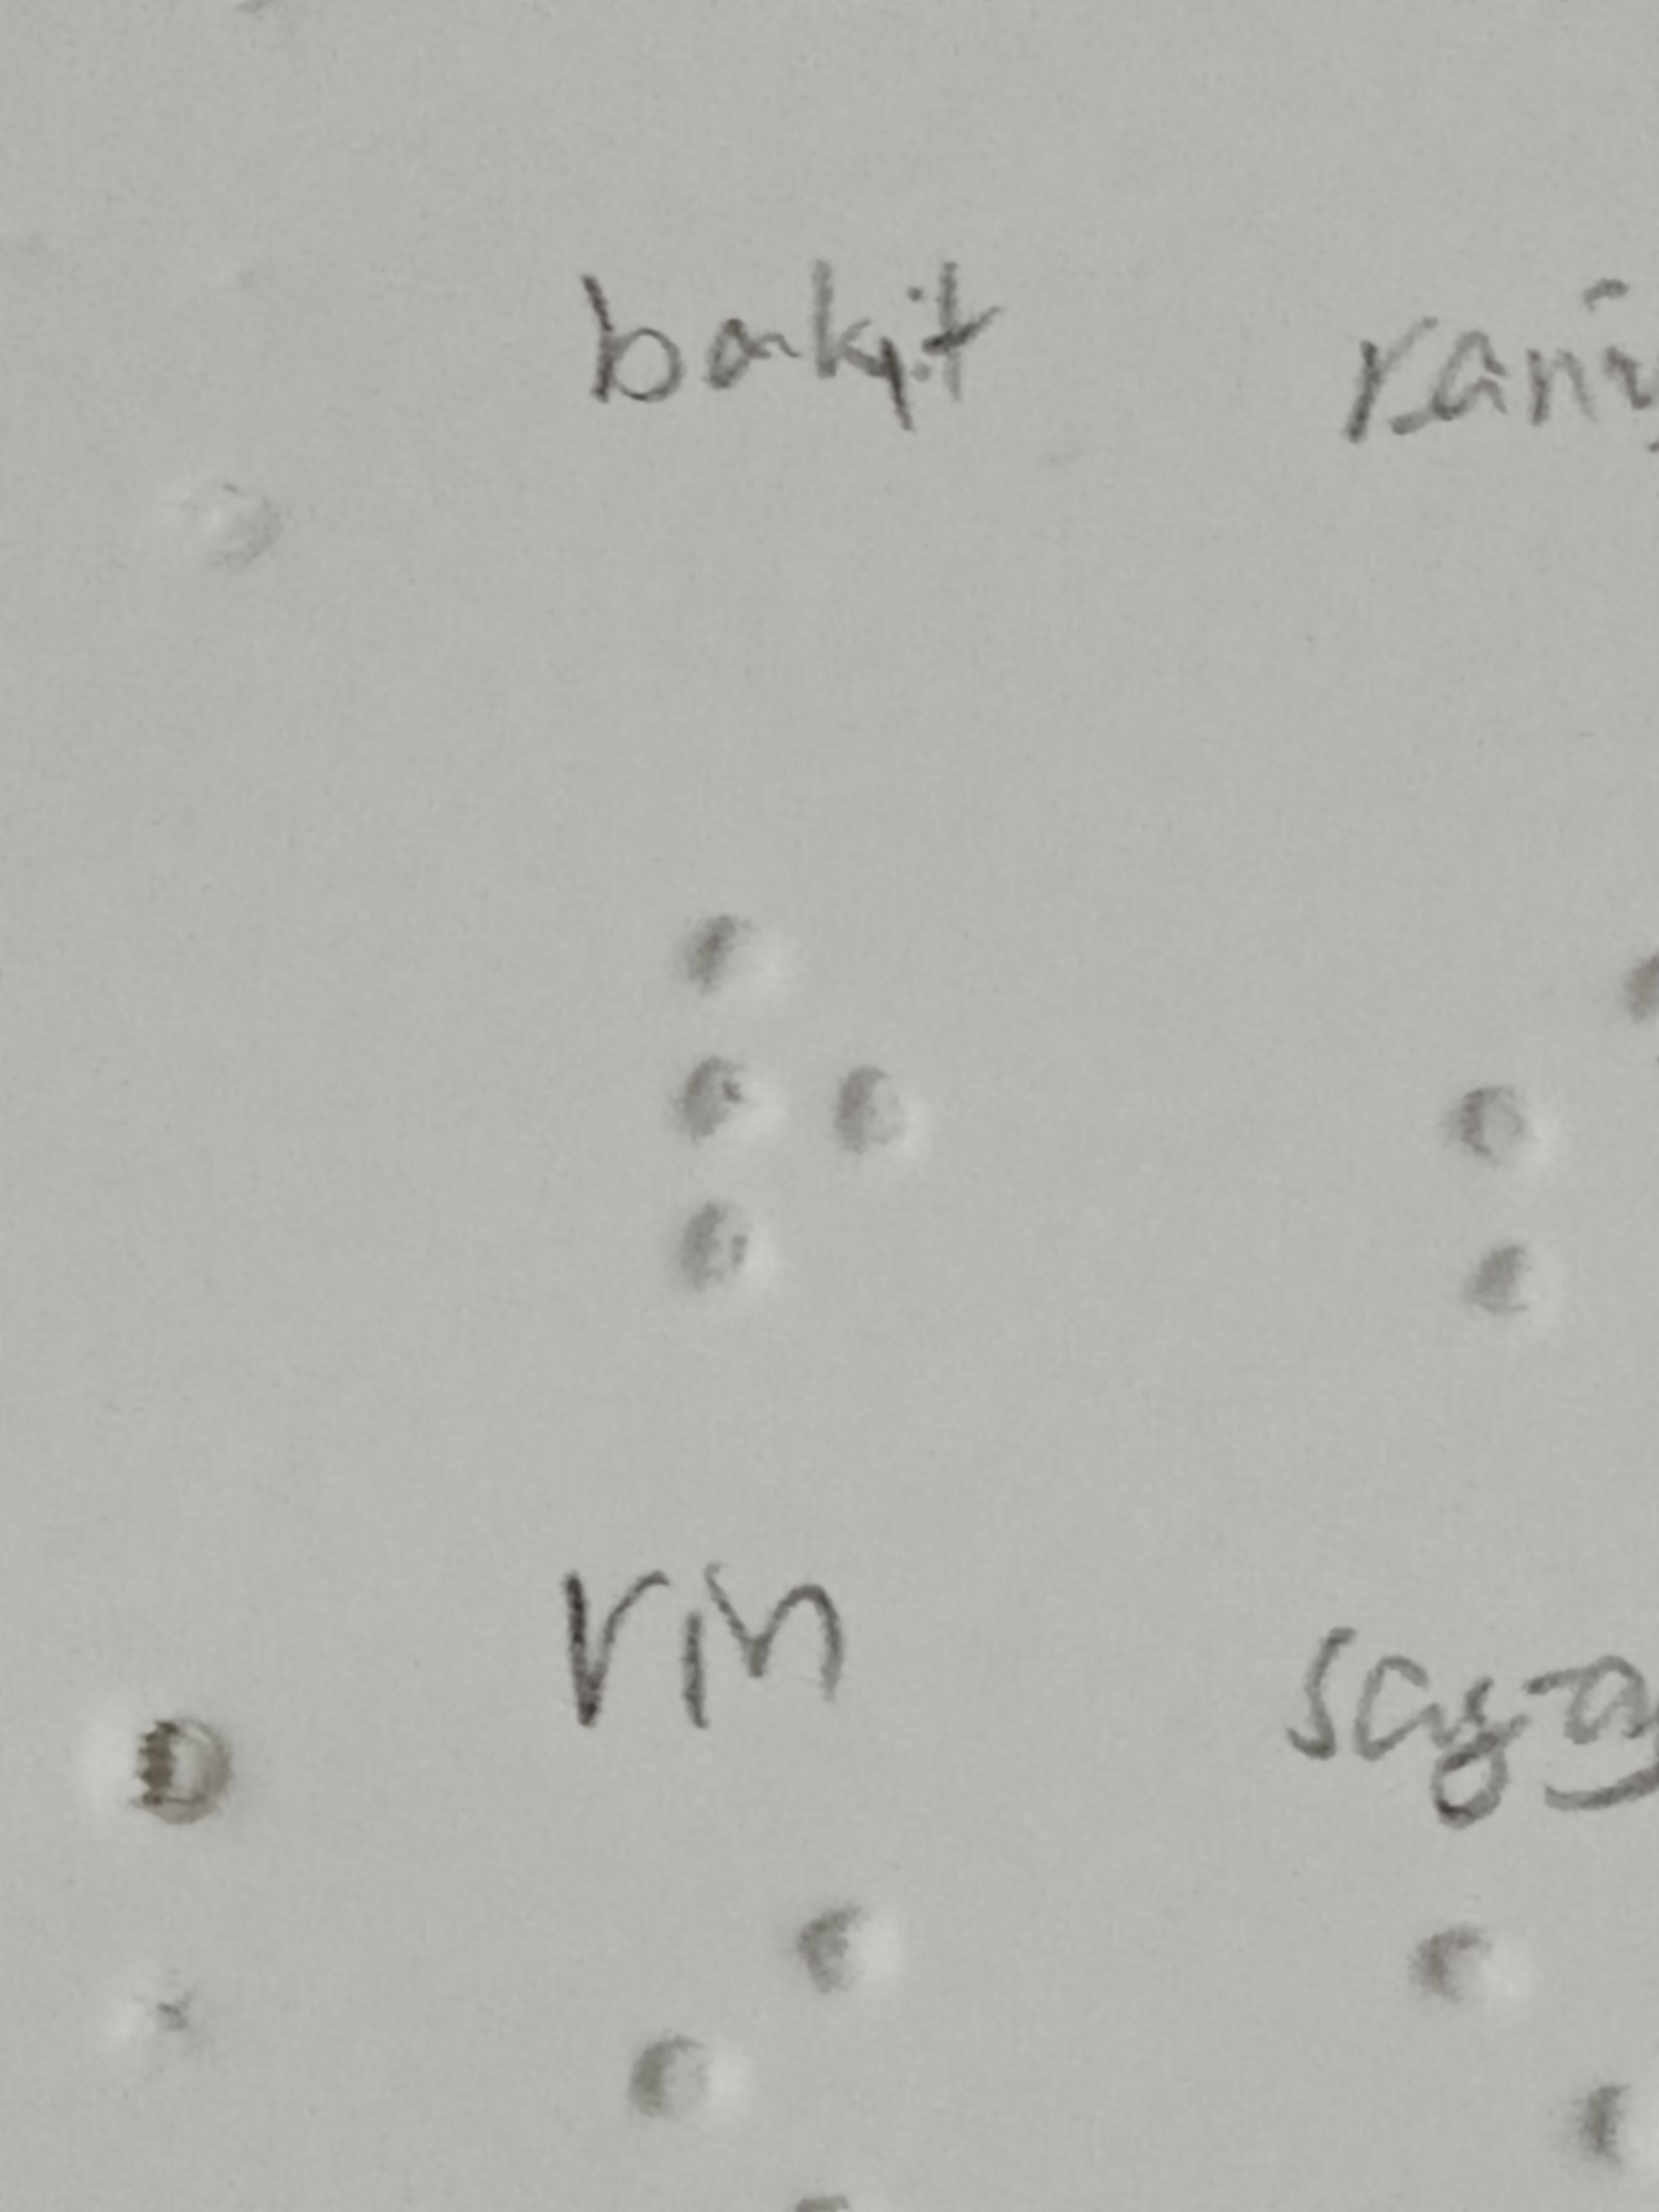one_cell_alphabet_rin: (671, 902, 911, 1313)
